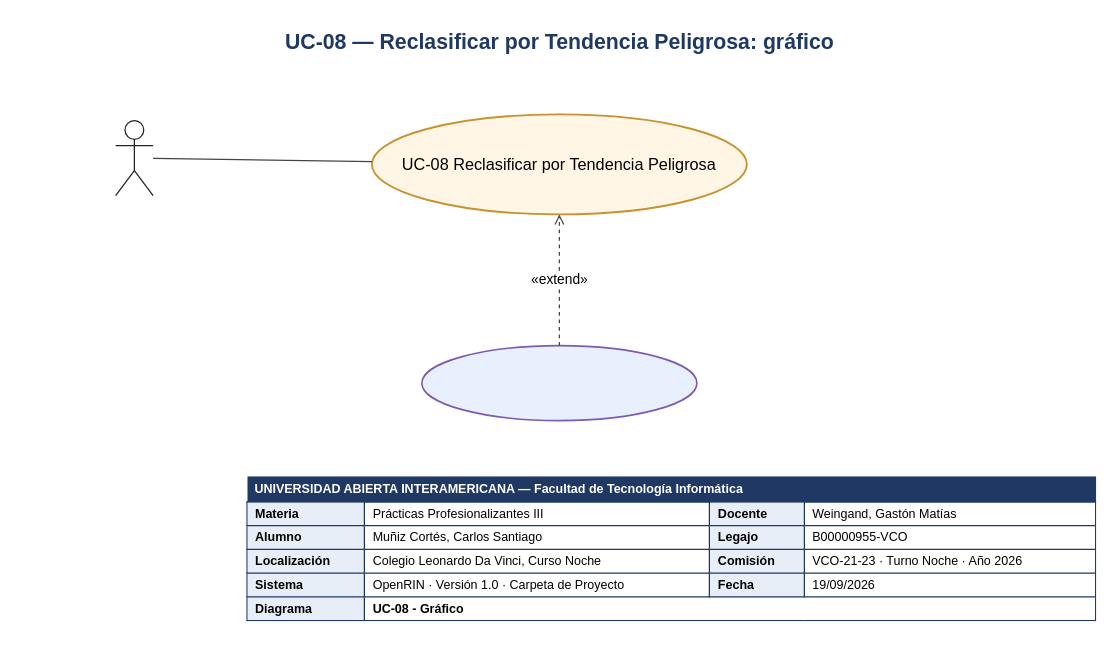
This 1118x668 diagram has some shape labels left out. Each missing label, with the box of its shape:
Sistema (automático): (114, 119, 153, 196)
UC-04 Reportar Valor de RIN: (420, 344, 697, 421)
